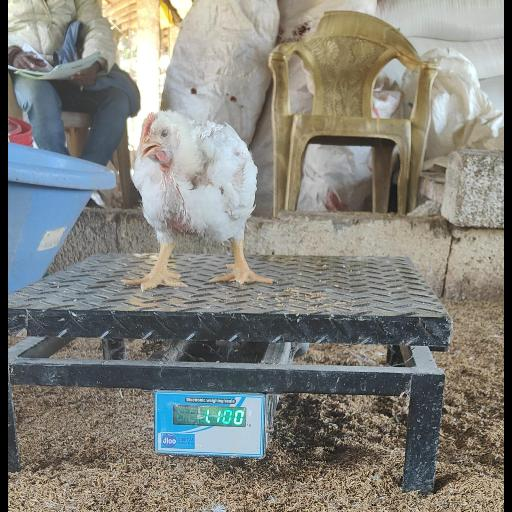chick: (120, 109, 280, 294)
